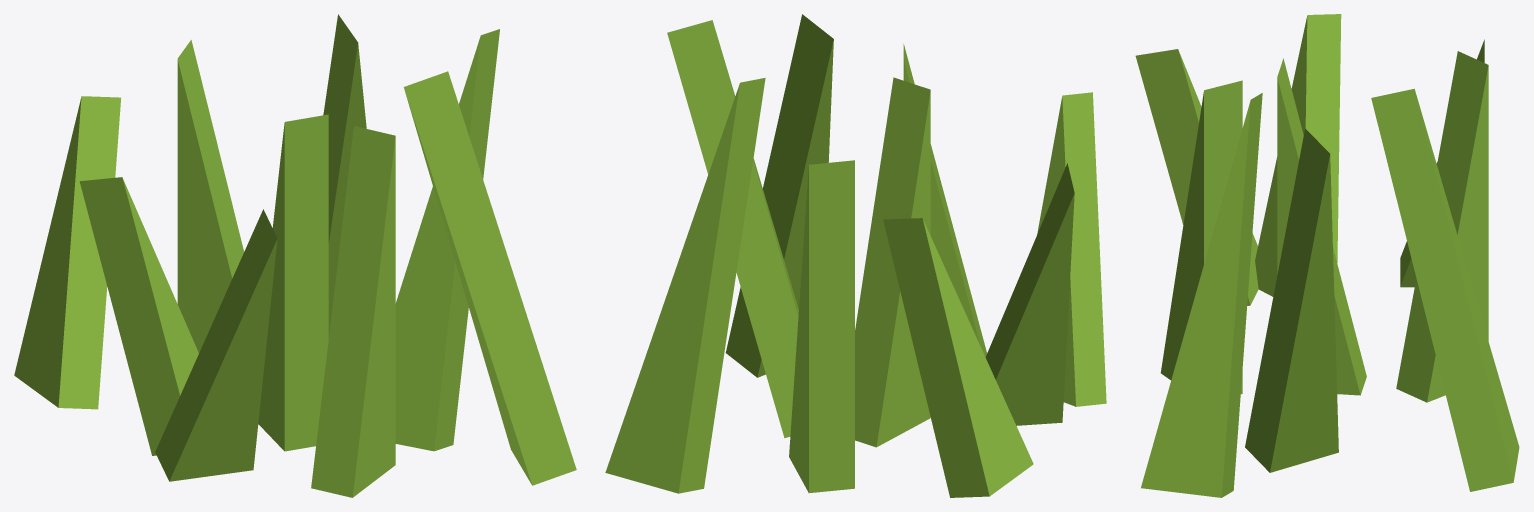
Rendered from ENV_Greenwood_Grass_V1.glb.
3 renders of one model, left to right at view 1: azimuth 30°, elevation 25°; view 2: azimuth 150°, elevation 25°; view 3: azimuth 270°, elevation 25°, orthographic. The views are drawn at different scales.
Parts seen in each view (by area): view 1: Blade_7, Blade_8, Blade_4, Blade_0, Blade_5, Blade_6, Blade_3, Blade_1, Blade_2; view 2: Blade_2, Blade_1, Blade_0, Blade_4, Blade_5, Blade_3, Blade_8, Blade_6, Blade_7; view 3: Blade_2, Blade_8, Blade_5, Blade_1, Blade_7, Blade_3, Blade_6, Blade_4, Blade_0.
Part boxes in pixels (bbox=[...]): Blade_7: bbox=[311, 126, 395, 497]; Blade_8: bbox=[403, 71, 576, 485]; Blade_4: bbox=[258, 114, 328, 451]; Blade_0: bbox=[14, 96, 120, 409]; Blade_5: bbox=[395, 29, 499, 451]; Blade_6: bbox=[155, 209, 277, 481]; Blade_3: bbox=[79, 177, 198, 455]; Blade_1: bbox=[177, 40, 243, 352]; Blade_2: bbox=[323, 14, 366, 338]; Blade_2: bbox=[605, 78, 765, 493]; Blade_1: bbox=[789, 160, 854, 493]; Blade_0: bbox=[883, 218, 1033, 497]; Blade_4: bbox=[855, 77, 930, 447]; Blade_5: bbox=[667, 20, 798, 438]; Blade_3: bbox=[985, 163, 1074, 425]; Blade_8: bbox=[725, 14, 833, 377]; Blade_6: bbox=[1037, 92, 1106, 406]; Blade_7: bbox=[903, 44, 986, 356]; Blade_2: bbox=[1371, 88, 1519, 491]; Blade_8: bbox=[1141, 93, 1262, 497]; Blade_5: bbox=[1245, 128, 1338, 472]; Blade_1: bbox=[1396, 51, 1488, 402]; Blade_7: bbox=[1160, 80, 1242, 394]; Blade_3: bbox=[1255, 14, 1341, 296]; Blade_6: bbox=[1135, 49, 1258, 305]; Blade_4: bbox=[1277, 58, 1366, 395]; Blade_0: bbox=[1400, 39, 1484, 287].
Size of the model in its own units: 1.51 by 1.34 by 1.28.
